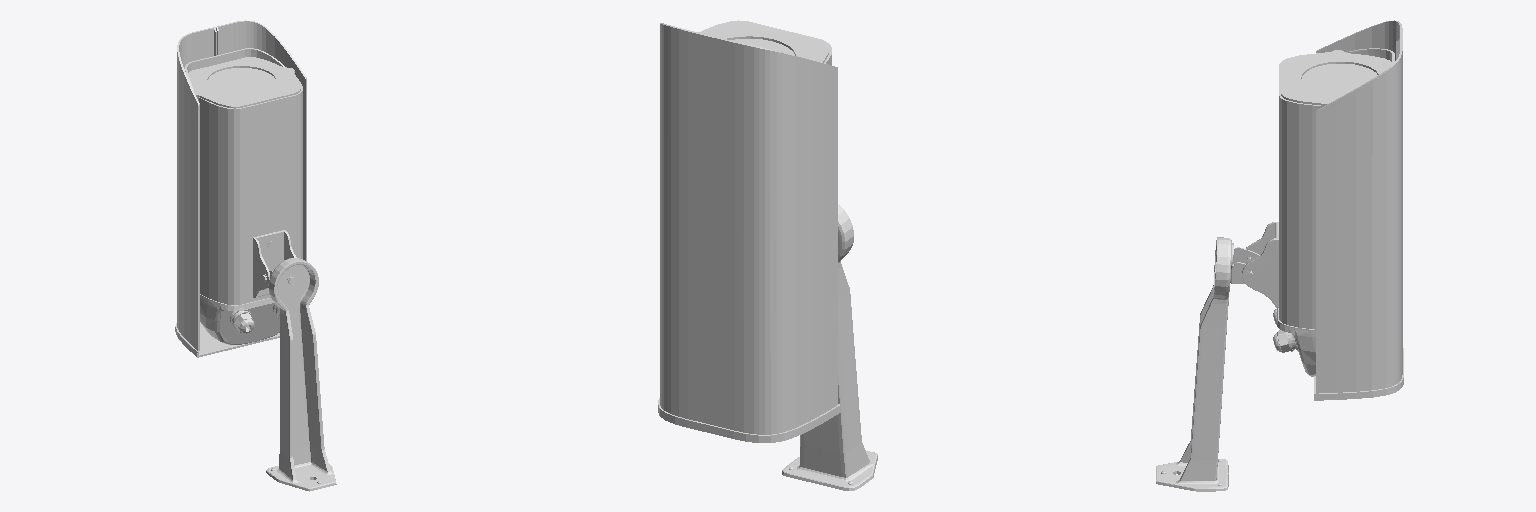
URDF robot description (generic_ip_camera):
<?xml version="1.0"?>
<robot name="generic_ip_camera">

  <link name="generic_ip_camera_link">
  
    <visual>
      <origin xyz="0 0 0" rpy="0 0 0"/>
      <geometry>
        <mesh filename="package://Generic_IP_camera/meshes/IPCamera2.stl" scale="0.001 0.001 0.001"/>
      </geometry>
      <material name="white">
        <color rgba="0.9 0.9 0.9 1.0"/>
      </material>
    </visual>

    <collision>
      <origin xyz="0 0 0" rpy="0 0 0"/>
      <geometry>
        <mesh filename="package://Generic_IP_camera/meshes/IPCamera2.stl" scale="0.001 0.001 0.001"/>
      </geometry>
    </collision>

    <inertial>
      <mass value="0.15"/>
      <origin xyz="0 0 0" rpy="0 0 0"/>
      <inertia
        ixx="0.0001" ixy="0.0" ixz="0.0"
        iyy="0.0001" iyz="0.0"
        izz="0.0001"/>
    </inertial>
    
  </link>

</robot>

--- Render facts (derived) ---
The picture shows the robot from 3 angles, left to right: view 1: azimuth 30°, elevation 25°; view 2: azimuth 150°, elevation 25°; view 3: azimuth 270°, elevation 25°; orthographic projection.
Model generic_ip_camera with 1 links and 0 joints (none), rooted at generic_ip_camera_link, posed all joints at 0.
Links seen in each view (by area): view 1: generic_ip_camera_link; view 2: generic_ip_camera_link; view 3: generic_ip_camera_link.
Boxes of the visible links, <box> form: generic_ip_camera_link: <box>175,20,336,491</box>; generic_ip_camera_link: <box>658,20,877,490</box>; generic_ip_camera_link: <box>1156,20,1403,491</box>.
Bounding box of the posed robot: 0.075 × 0.1265 × 0.2449 m (x, y, z).
Meshes: 1 distinct files referenced, 1 mesh visuals loaded (1 binary STL).